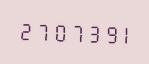nine: (97, 20, 112, 45)
one: (113, 21, 128, 45)
seven: (33, 18, 48, 43), (65, 19, 80, 44)
three: (81, 20, 96, 44)
two: (17, 18, 32, 42)
zero: (49, 19, 64, 43)
